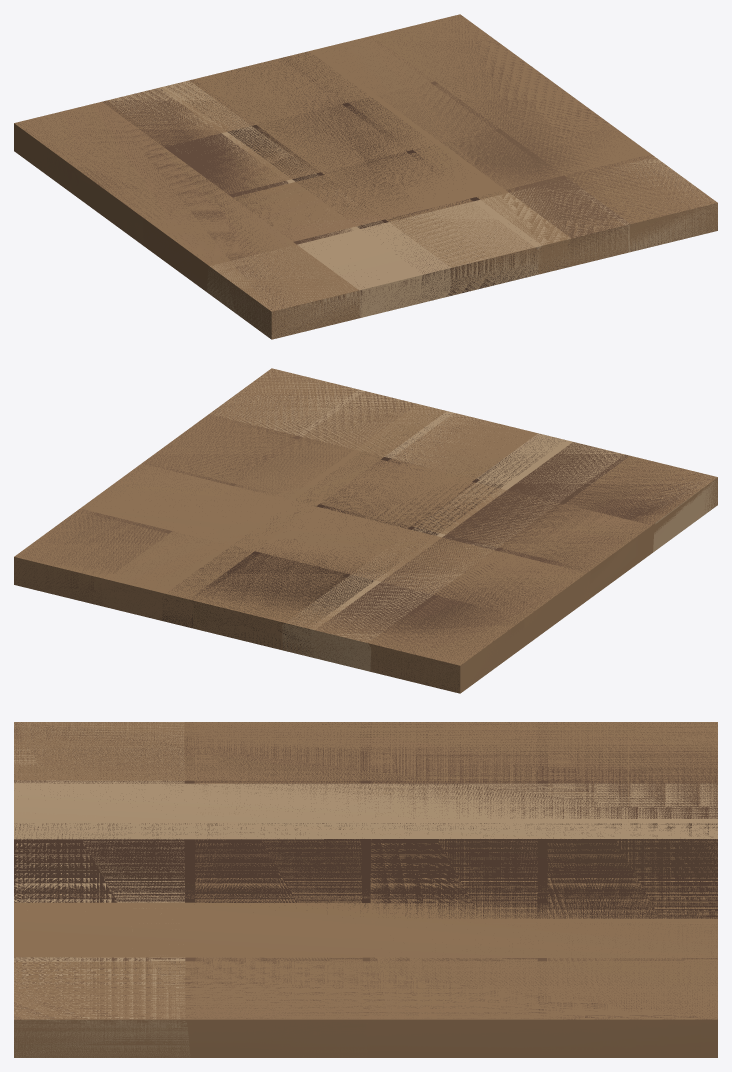
File: floor.wood.glb
3 views of the same model, one above another, from view 1: azimuth 30°, elevation 25°; view 2: azimuth 150°, elevation 25°; view 3: azimuth 270°, elevation 25° (orthographic). The views are drawn at different scales.
Parts seen in each view (by area): view 1: floor.wood.v0.mesh, floor.wood.v1.mesh, floor.wood.v2.mesh; view 2: floor.wood.v0.mesh, floor.wood.v1.mesh, floor.wood.v2.mesh; view 3: floor.wood.v0.mesh, floor.wood.v2.mesh, floor.wood.v1.mesh.
Boxes of the visible parts, x1,y1,x2,y2 form: floor.wood.v0.mesh: (14,14,717,339); floor.wood.v1.mesh: (14,15,717,339); floor.wood.v2.mesh: (16,15,717,338); floor.wood.v0.mesh: (14,368,717,693); floor.wood.v1.mesh: (14,368,717,693); floor.wood.v2.mesh: (14,368,715,692); floor.wood.v0.mesh: (14,722,717,1057); floor.wood.v2.mesh: (14,722,717,1019); floor.wood.v1.mesh: (14,722,717,1057).
Size of the model in its own units: 1 by 0.0599 by 1.
